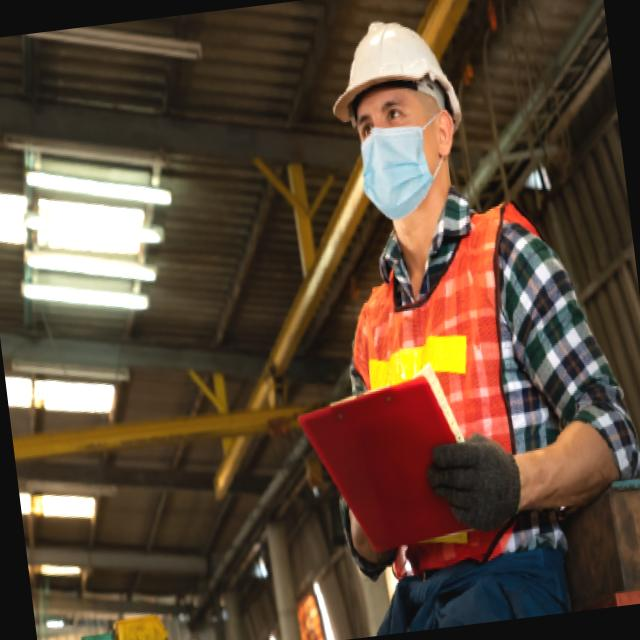helmet: (316, 9, 460, 134)
no-goggles: (352, 94, 444, 142)
vest: (333, 178, 583, 580)
